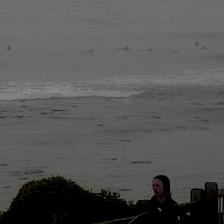surfer: (116, 46, 130, 51), (82, 49, 94, 53), (142, 48, 152, 52), (6, 44, 12, 50), (195, 41, 200, 48), (172, 50, 180, 53), (202, 46, 208, 50)
